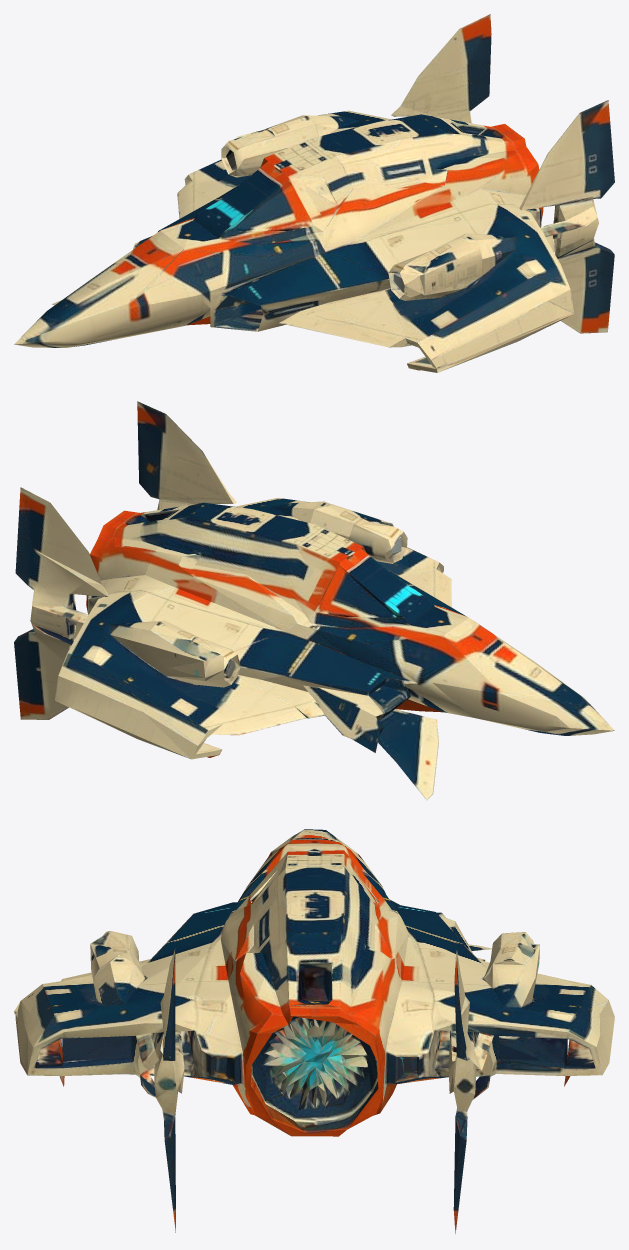
File: nation-d-scout.glb
3 views of the same model, one above another, from view 1: azimuth 30°, elevation 25°; view 2: azimuth 150°, elevation 25°; view 3: azimuth 270°, elevation 25° (orthographic). The views are drawn at different scales.
Size of the model in its own units: 1.9 by 0.7834 by 1.54.
1 material, 1 textured.
